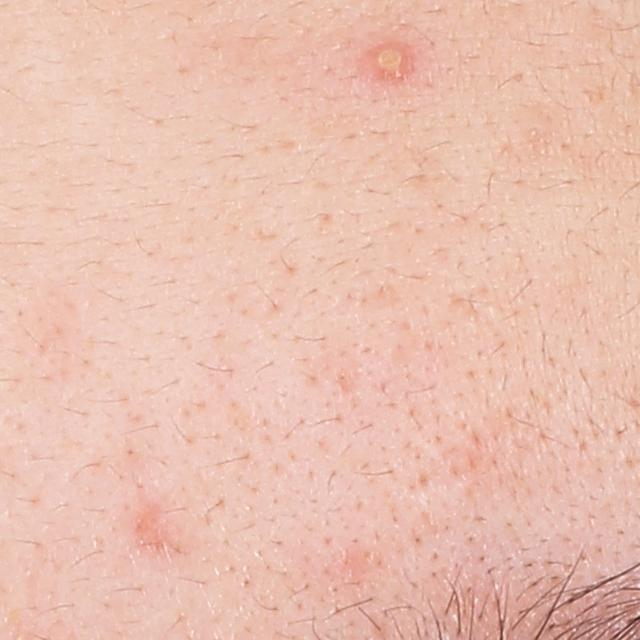pustule: (364, 38, 410, 81)
